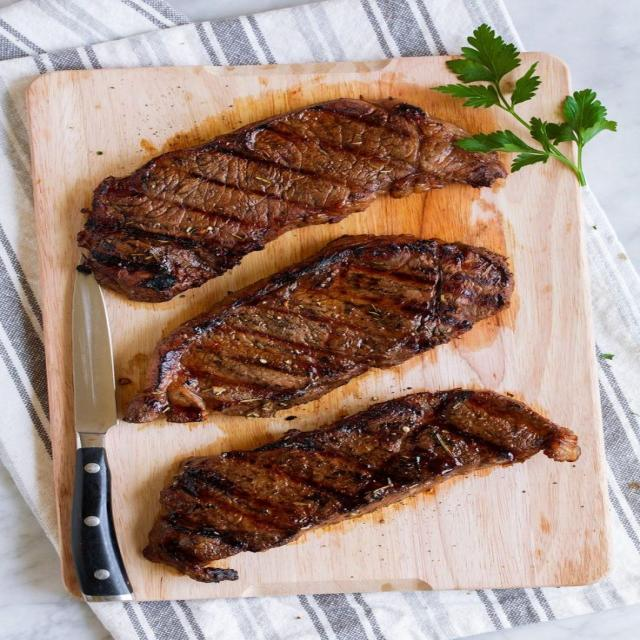beef steak: (77, 98, 505, 302), (143, 389, 579, 581), (124, 235, 512, 423)
